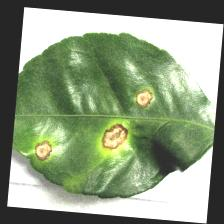canker: (21, 86, 163, 164)
